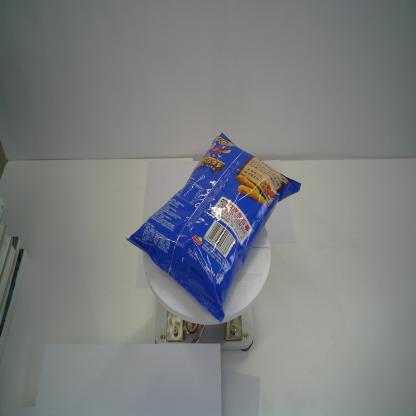Puffed Food: (123, 131, 302, 325)
